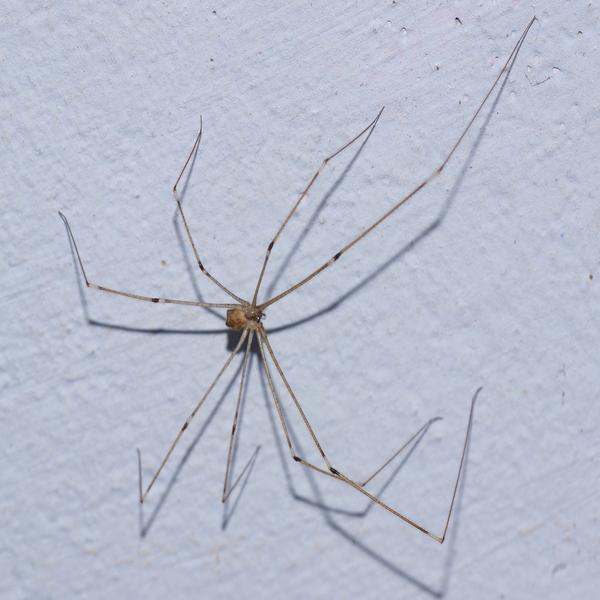Daddy Long Legs Spider: (76, 49, 520, 547)
